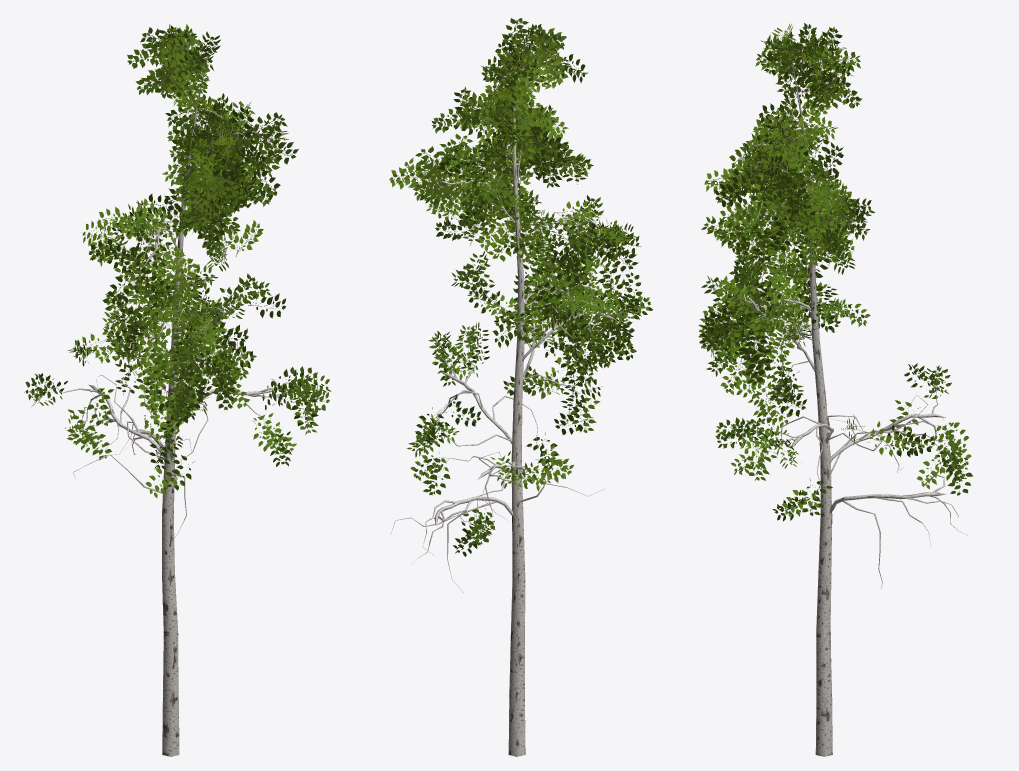
Rendered from birch_tree_2.gltf.
3 renders of one model, left to right at view 1: azimuth 30°, elevation 25°; view 2: azimuth 150°, elevation 25°; view 3: azimuth 270°, elevation 25°, orthographic.
Parts seen in each view (by area): view 1: birch_tree_2; view 2: birch_tree_2; view 3: birch_tree_2.
Boxes of the visible parts, bbox=[...] form: birch_tree_2: bbox=[24, 24, 331, 756]; birch_tree_2: bbox=[389, 18, 652, 756]; birch_tree_2: bbox=[698, 23, 972, 756].
Bounding box in the file's own units: 3.04 × 8.51 × 3.31.
2 materials, 2 textured.
